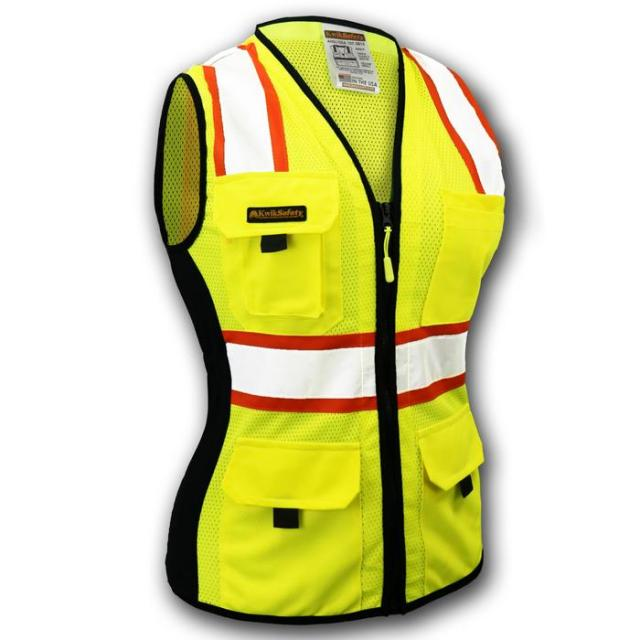Reflective-Jacket: (94, 3, 533, 640)
